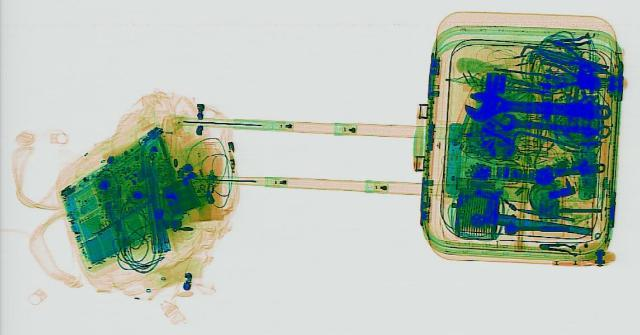Pliers: (530, 39, 622, 81)
Wrench: (456, 89, 616, 129), (490, 111, 612, 140)
